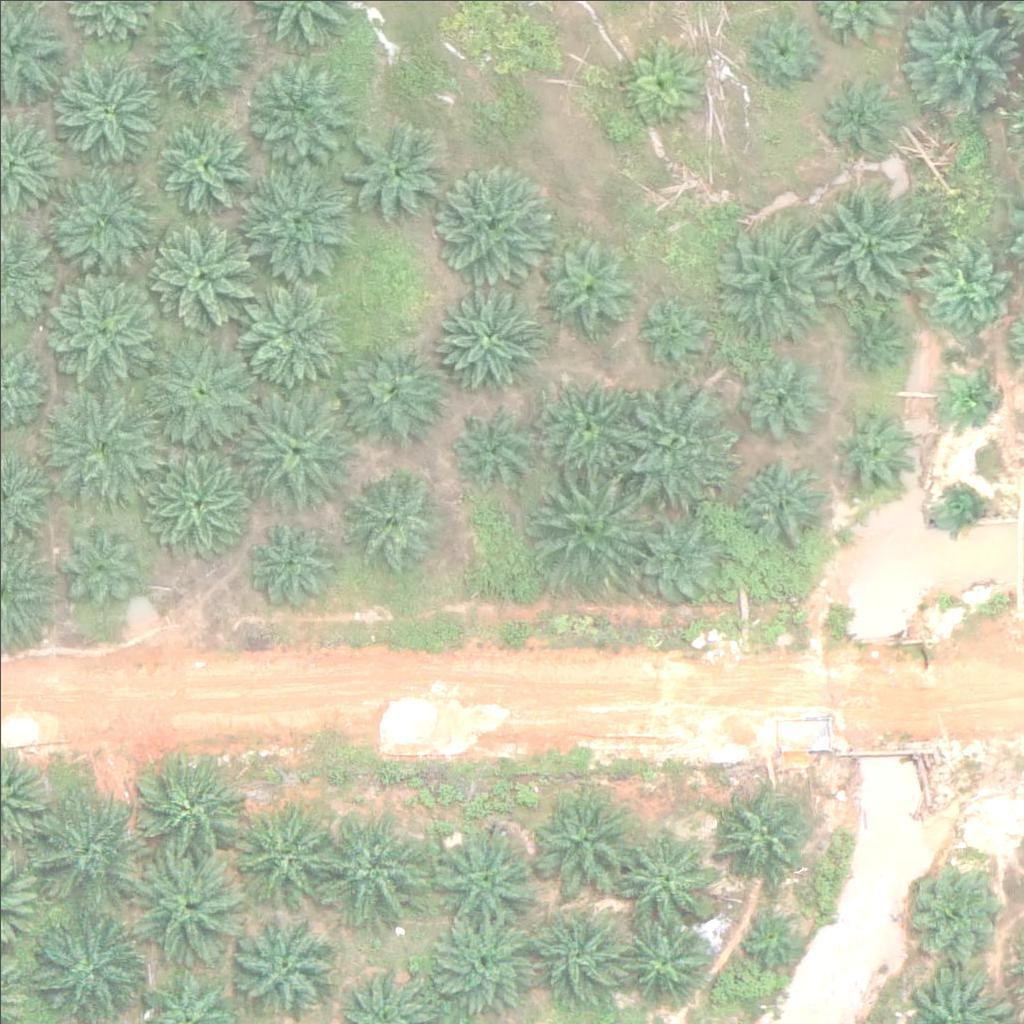Kelapa_Sawit: (43, 268, 156, 382), (439, 163, 552, 277), (713, 214, 826, 328), (43, 384, 156, 497), (42, 50, 155, 163), (145, 214, 258, 327), (145, 443, 258, 556), (231, 273, 344, 386), (242, 50, 355, 163), (808, 192, 921, 305), (131, 749, 244, 862), (426, 908, 539, 1021), (429, 820, 542, 933), (527, 781, 640, 894), (44, 164, 156, 278), (147, 336, 259, 450), (908, 1, 1020, 115), (322, 810, 434, 924), (234, 394, 346, 507), (237, 158, 349, 271), (429, 278, 541, 391), (532, 465, 644, 578), (622, 386, 734, 499), (27, 790, 139, 903), (133, 849, 245, 962), (232, 792, 344, 905), (240, 512, 340, 613), (346, 124, 446, 225), (345, 339, 445, 440), (538, 379, 638, 480), (632, 512, 732, 613), (237, 915, 337, 1016), (529, 898, 629, 999), (614, 907, 714, 1008), (712, 781, 812, 882), (904, 853, 1004, 954), (148, 2, 248, 102), (153, 114, 253, 214), (341, 463, 441, 563), (537, 238, 637, 338), (619, 828, 719, 928), (739, 453, 826, 542), (52, 522, 139, 610), (445, 401, 532, 489), (632, 284, 719, 372), (739, 355, 826, 443), (923, 251, 1010, 339), (829, 407, 916, 495), (619, 34, 706, 122), (747, 8, 822, 84), (823, 83, 898, 158), (731, 895, 806, 970), (944, 375, 994, 426), (937, 486, 987, 536), (846, 317, 896, 367)
